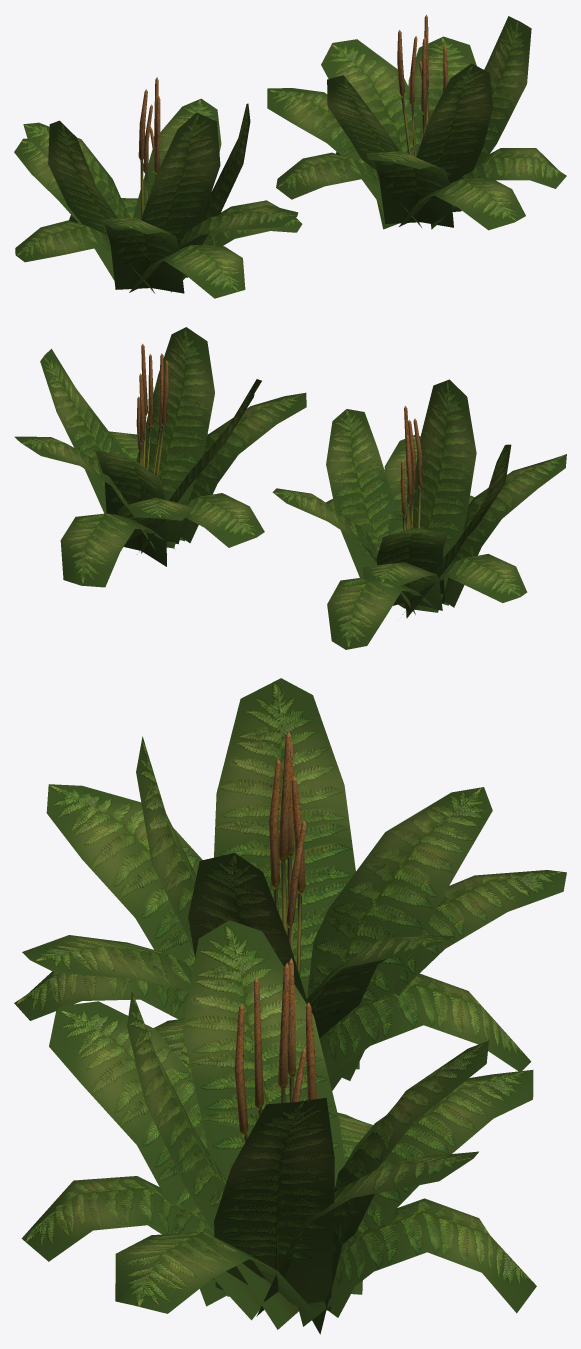
Rendered from Cinnamomeum.FBX.
The picture shows the model from 3 angles, top to bottom: view 1: azimuth 30°, elevation 25°; view 2: azimuth 150°, elevation 25°; view 3: azimuth 270°, elevation 25°; orthographic projection. The views are drawn at different scales.
Parts seen in each view (by area): view 1: Cinnamomeum004, Cinnamomeum; view 2: Cinnamomeum, Cinnamomeum004; view 3: Cinnamomeum004, Cinnamomeum.
Part boxes in pixels (x1,y1,x2,y2): Cinnamomeum004: [267, 14, 566, 230]; Cinnamomeum: [14, 77, 302, 298]; Cinnamomeum: [272, 379, 566, 649]; Cinnamomeum004: [14, 327, 306, 587]; Cinnamomeum004: [21, 920, 536, 1334]; Cinnamomeum: [14, 678, 566, 1090].
Bounding box in the file's own units: 141 × 58.68 × 78.79.
